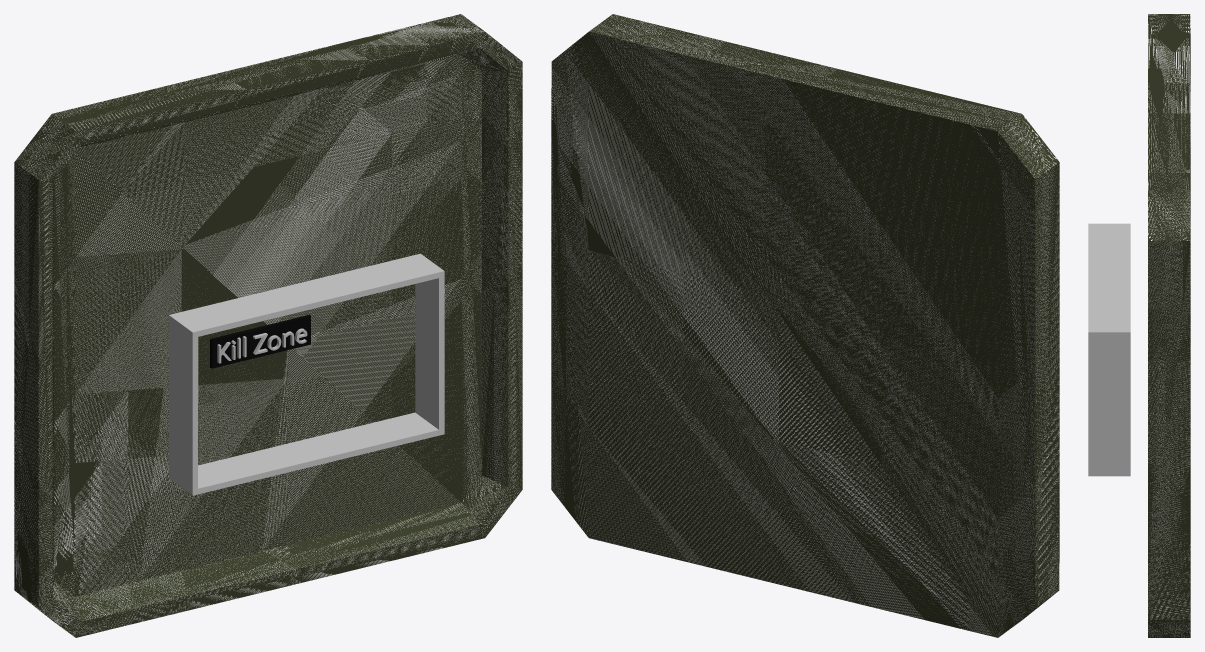
File: CM_-_Kill_Zone.obj
The picture shows the model from 3 angles, left to right: view 1: azimuth 30°, elevation 25°; view 2: azimuth 150°, elevation 25°; view 3: azimuth 270°, elevation 25°; orthographic projection. The views are drawn at different scales.
Parts seen in each view (by area): view 1: Button.001_ID13, Button_ID3, SM_CM_-_Kill_Zone_path1763-2.086; view 2: Button_ID3; view 3: Button_ID3, SM_CM_-_Kill_Zone_path1763-2.086.
Part boxes in pixels (box(x1,y1,x2,y2)): Button.001_ID13: box(52, 48, 508, 621); Button_ID3: box(14, 14, 522, 637); SM_CM_-_Kill_Zone_path1763-2.086: box(168, 253, 444, 495); Button_ID3: box(551, 14, 1059, 637); Button_ID3: box(1148, 14, 1190, 637); SM_CM_-_Kill_Zone_path1763-2.086: box(1088, 223, 1130, 476).
Bounding box in the file's own units: 1 × 1 × 0.207.
